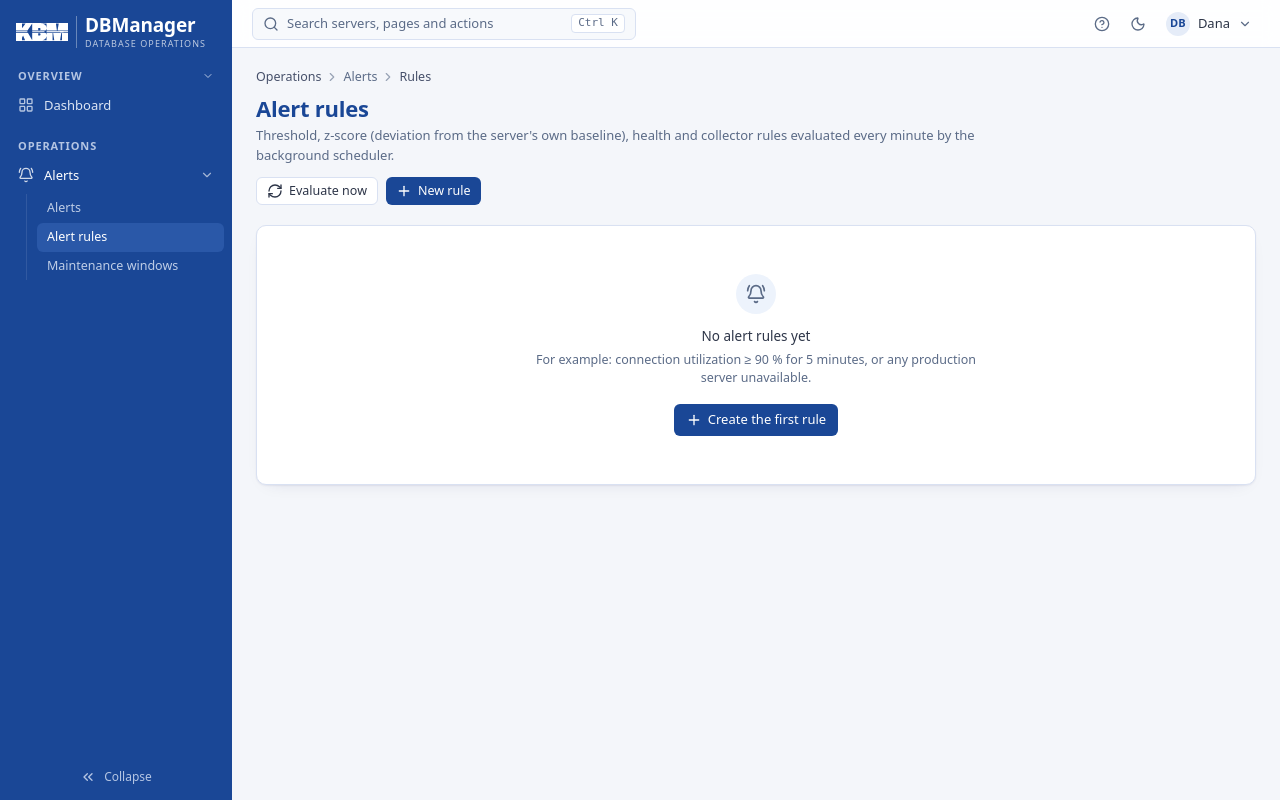
Test case: alert rules evaluate now › evaluates all rules for alerts.manage and shows the result
This screenshot has width=1280, height=800.
Expected: the text "z-score (deviation from the server's own baseline)" is shown, x1=256 y1=126 x2=975 y2=164
Click the button "Evaluate now" at (317, 191), box x1=256 y1=177 x2=378 y2=205
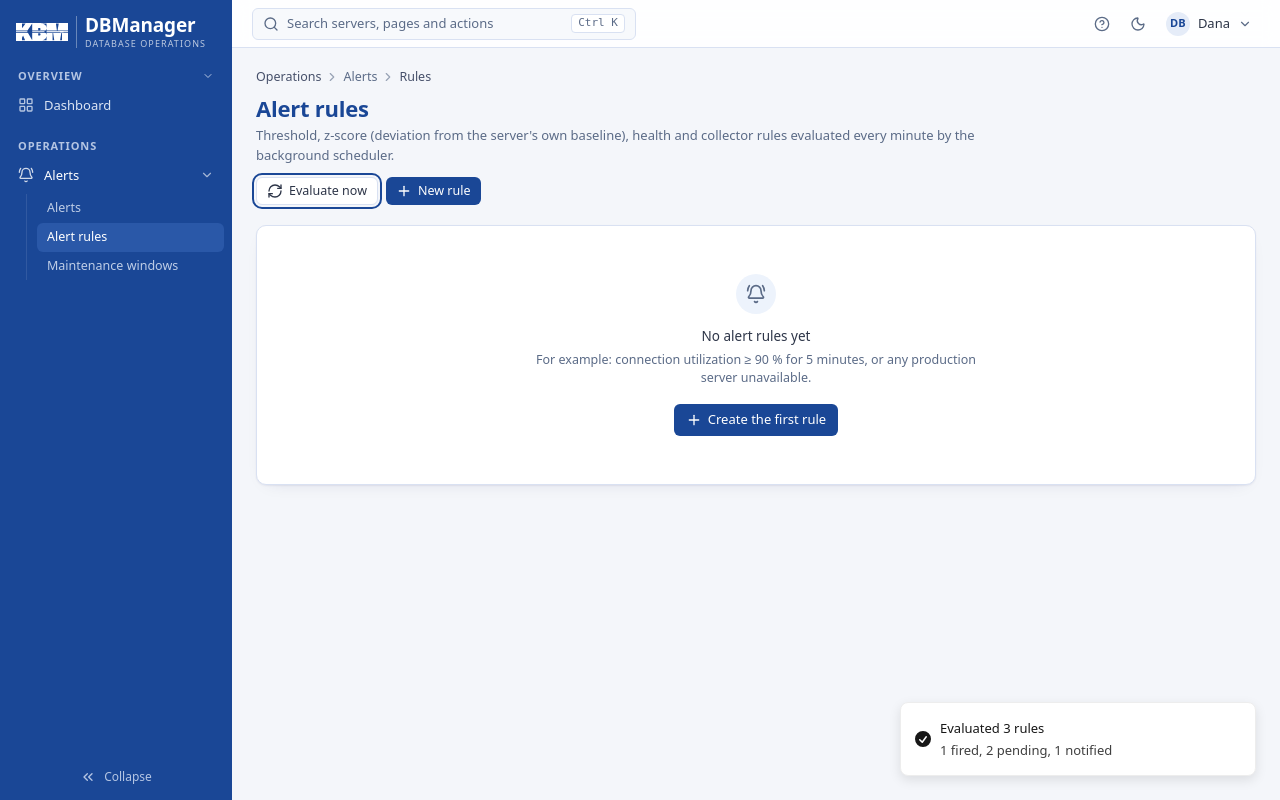
Expected: the text "Evaluated 3 rules" is shown, x1=940 y1=719 x2=1044 y2=737
Expected: the text "1 fired, 2 pending, 1 notified" is shown, x1=940 y1=741 x2=1112 y2=759
